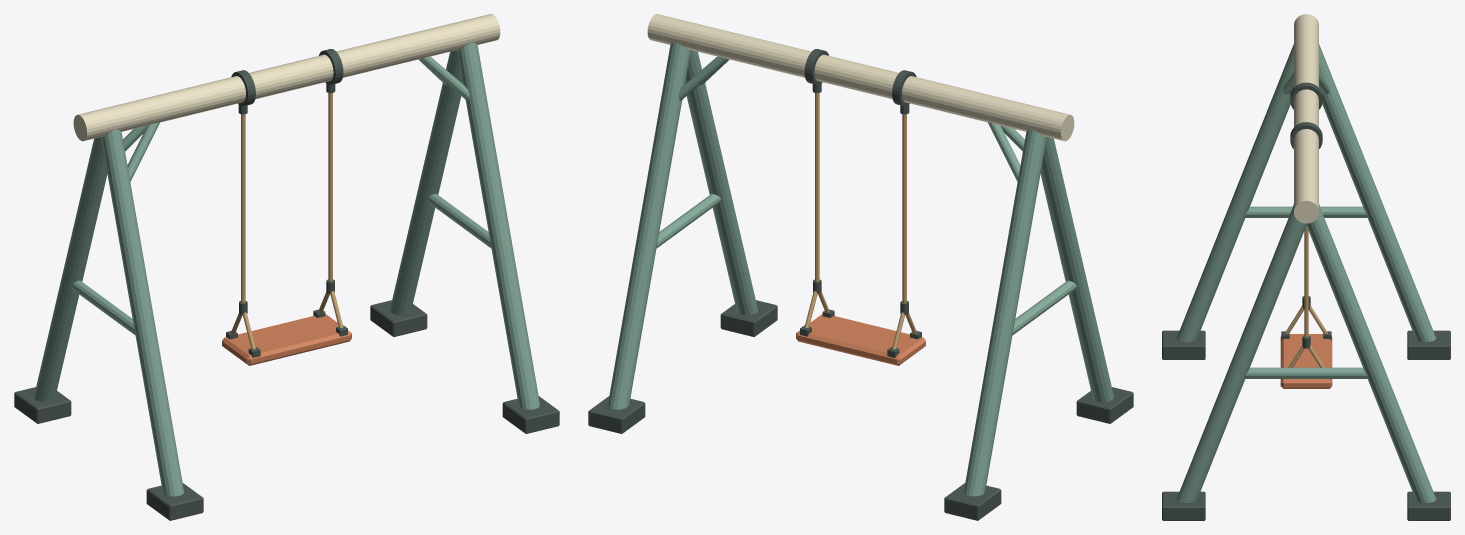
3 renders of one model, left to right at view 1: azimuth 30°, elevation 25°; view 2: azimuth 150°, elevation 25°; view 3: azimuth 270°, elevation 25°, orthographic. The views are drawn at different scales.
Parts seen in each view (by area): view 1: Crossbeam, Leg_Left_Front, Leg_Right_Front, Leg_Left_Back, Leg_Right_Back, Seat_Plank, Foot_Left_Front, Foot_Right_Front, Foot_Left_Back, Foot_Right_Back, SuspensionRope_Left, SuspensionRope_Right (+2 smaller); view 2: Crossbeam, Leg_Left_Back, Leg_Right_Back, Leg_Left_Front, Leg_Right_Front, Seat_Plank, Foot_Left_Back, Foot_Right_Back, Foot_Left_Front, Foot_Right_Front, SuspensionRope_Left, SuspensionRope_Right (+2 smaller); view 3: Leg_Right_Back, Leg_Right_Front, Leg_Left_Back, Leg_Left_Front, Crossbeam, Seat_Plank, SideTie_Right, Foot_Left_Back, Foot_Left_Front, Foot_Right_Back, Foot_Right_Front, SideTie_Left (+3 smaller).
Part boxes in pixels (x1=…): Crossbeam: x1=73, y1=14, x2=500, y2=141; Leg_Left_Front: x1=101, y1=129, x2=183, y2=496; Leg_Right_Front: x1=457, y1=42, x2=539, y2=409; Leg_Left_Back: x1=34, y1=137, x2=107, y2=401; Leg_Right_Back: x1=390, y1=50, x2=462, y2=315; Seat_Plank: x1=222, y1=314, x2=351, y2=365; Foot_Left_Front: x1=146, y1=483, x2=203, y2=520; Foot_Right_Front: x1=502, y1=396, x2=559, y2=433; Foot_Left_Back: x1=14, y1=387, x2=71, y2=423; Foot_Right_Back: x1=370, y1=300, x2=427, y2=336; SuspensionRope_Left: x1=241, y1=114, x2=245, y2=303; SuspensionRope_Right: x1=328, y1=93, x2=332, y2=281; Crossbeam: x1=647, y1=14, x2=1074, y2=141; Leg_Left_Back: x1=964, y1=129, x2=1046, y2=496; Leg_Right_Back: x1=608, y1=42, x2=690, y2=409; Leg_Left_Front: x1=1040, y1=137, x2=1113, y2=401; Leg_Right_Front: x1=685, y1=50, x2=757, y2=315; Seat_Plank: x1=796, y1=314, x2=925, y2=365; Foot_Left_Back: x1=944, y1=483, x2=1001, y2=520; Foot_Right_Back: x1=588, y1=396, x2=645, y2=433; Foot_Left_Front: x1=1076, y1=387, x2=1133, y2=423; Foot_Right_Front: x1=720, y1=300, x2=777, y2=336; SuspensionRope_Left: x1=902, y1=114, x2=906, y2=303; SuspensionRope_Right: x1=815, y1=93, x2=819, y2=281; Leg_Right_Back: x1=1306, y1=205, x2=1436, y2=502; Leg_Right_Front: x1=1176, y1=205, x2=1306, y2=502; Leg_Left_Back: x1=1319, y1=44, x2=1436, y2=342; Leg_Left_Front: x1=1176, y1=44, x2=1293, y2=342; Crossbeam: x1=1294, y1=14, x2=1318, y2=223; Seat_Plank: x1=1280, y1=334, x2=1332, y2=388; SideTie_Right: x1=1245, y1=367, x2=1367, y2=378; Foot_Left_Back: x1=1407, y1=330, x2=1450, y2=359; Foot_Left_Front: x1=1162, y1=330, x2=1205, y2=359; Foot_Right_Back: x1=1407, y1=491, x2=1450, y2=520; Foot_Right_Front: x1=1162, y1=491, x2=1205, y2=520; SideTie_Left: x1=1245, y1=206, x2=1367, y2=217.
Bounding box in the file's own units: 2.74 × 2.25 × 1.79.
